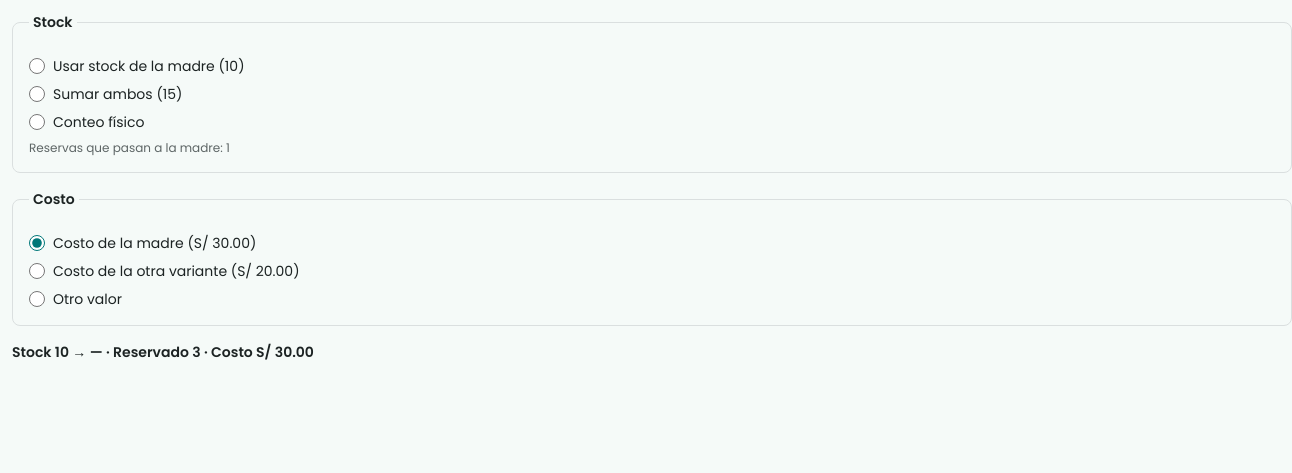
Test: ReconciliationMergeStockCostStep › conteo físico muestra el campo y el error si queda por debajo de las reservas
Click the radio button labelled "Conteo físico" at (37, 122), box left=29, top=114, right=45, bottom=130
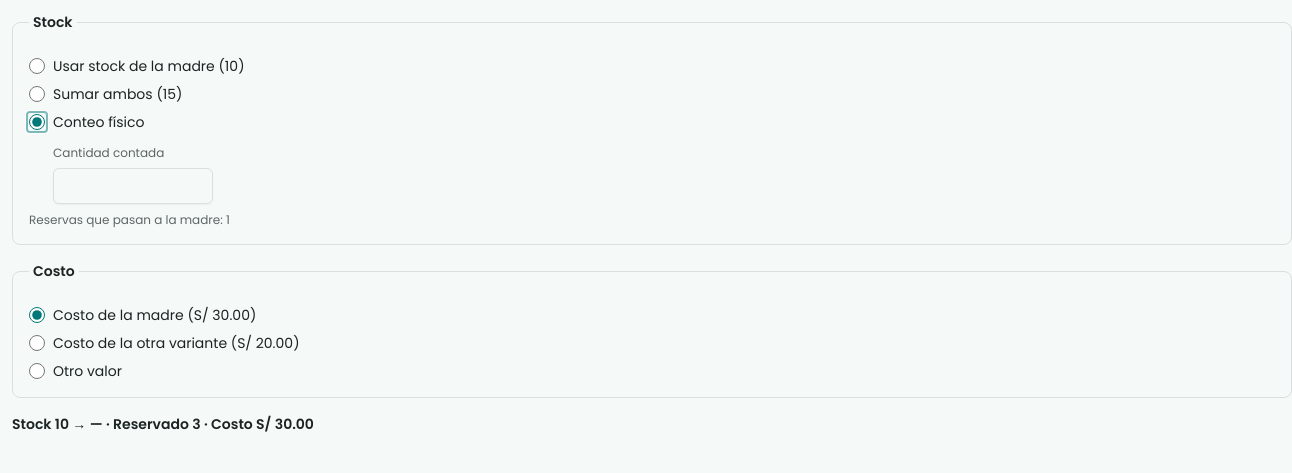
Type "2" into the field labelled "Cantidad contada" at (133, 186), box left=53, top=168, right=213, bottom=204
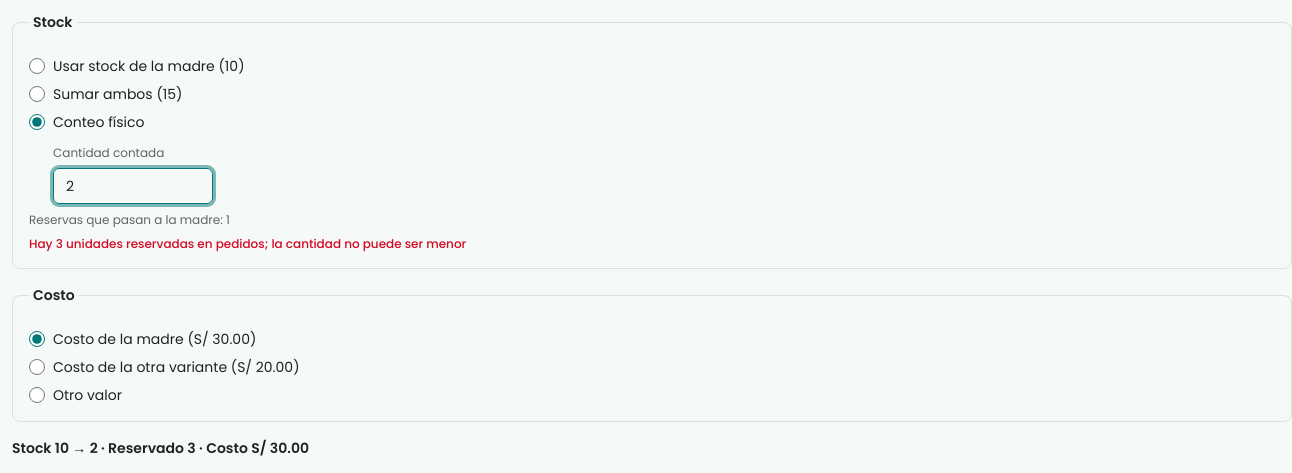
Result: the message reads "Hay 3 unidades reservadas en pedidos; la cantidad no puede ser menor" at left=29, top=235, right=466, bottom=252
